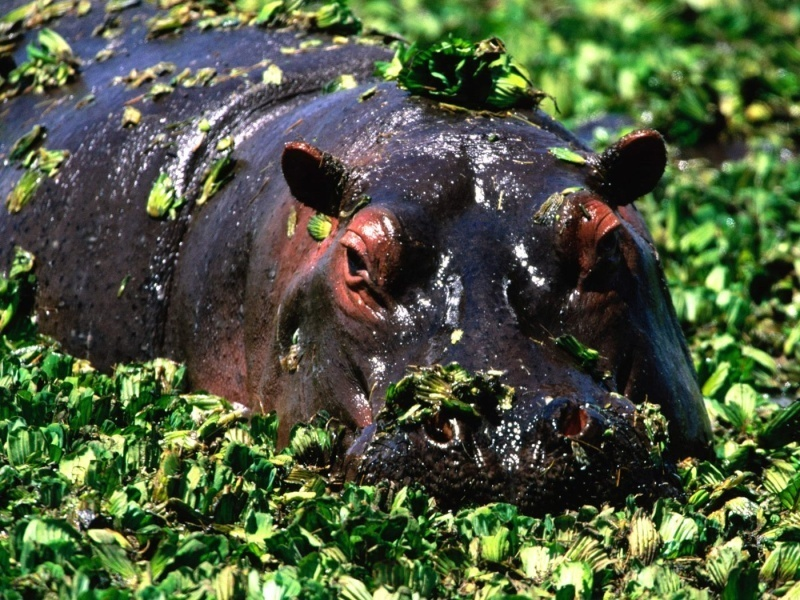hipopotamo: (1, 1, 737, 537)
